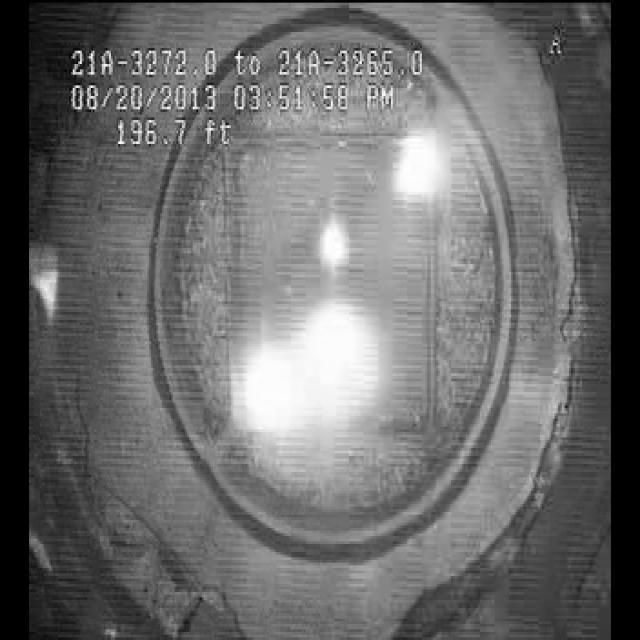Crack: (53, 342, 174, 582)
